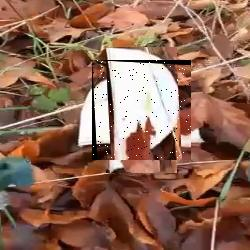restaffald: (92, 60, 191, 160)
